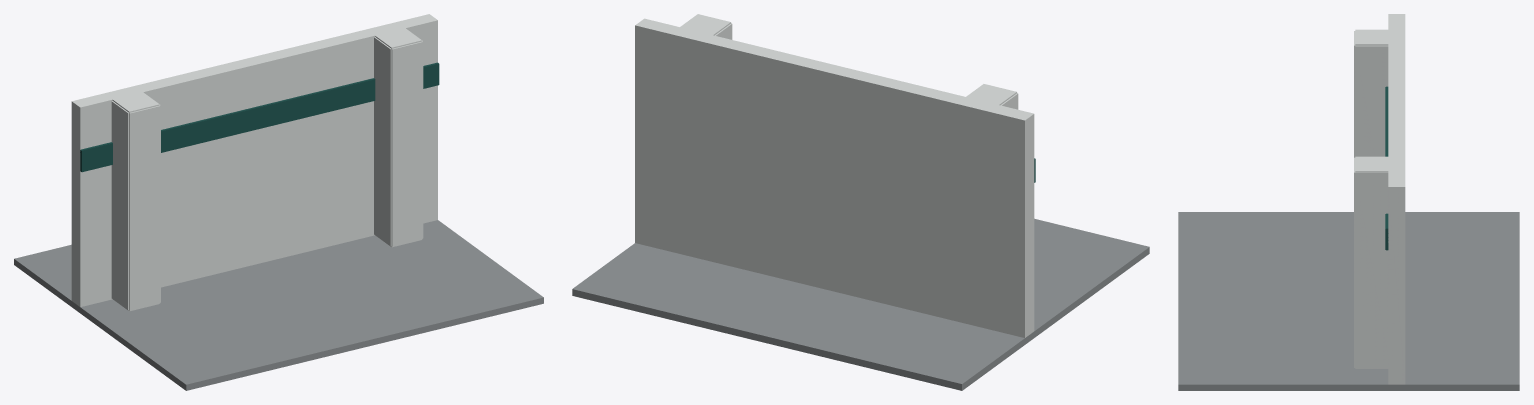
Rendered from SM_NEXO_StationBackdrop.fbx.
3 views of the same model, side by side, from view 1: azimuth 30°, elevation 25°; view 2: azimuth 150°, elevation 25°; view 3: azimuth 270°, elevation 25° (orthographic). The views are drawn at different scales.
Visible parts, largest first — view 1: Station_Floor.001; view 2: Station_Floor.001; view 3: Station_Floor.001.
Part boxes in pixels (x1,y1,x2,y2): Station_Floor.001: [14, 14, 543, 390]; Station_Floor.001: [572, 14, 1149, 390]; Station_Floor.001: [1178, 14, 1519, 390].
Bounding box in the file's own units: 6 × 5 × 3.3.
